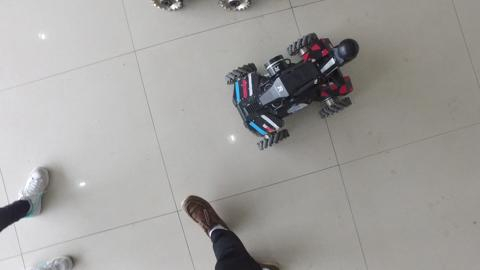chariot: (223, 30, 363, 153)
